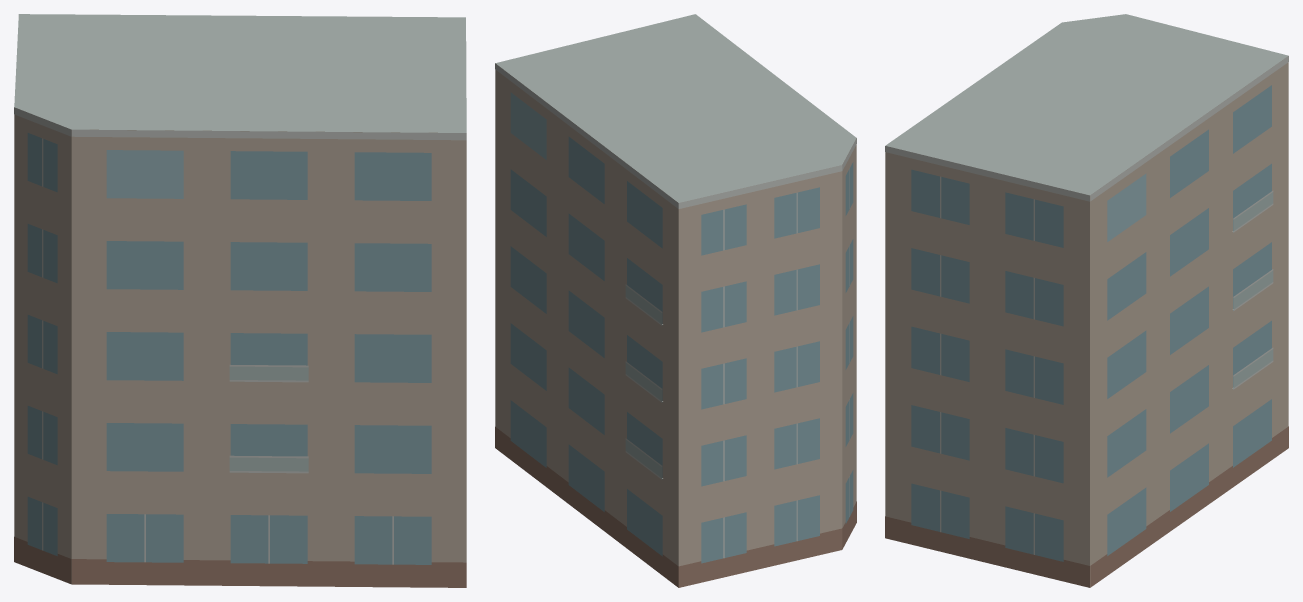
The model's file is survey-upis-32972555.glb.
3 renders of one model, left to right at view 1: azimuth 30°, elevation 25°; view 2: azimuth 150°, elevation 25°; view 3: azimuth 270°, elevation 25°, orthographic. The views are drawn at different scales.
Parts seen in each view (by area): view 1: survey-upis-32972555.tmp; view 2: survey-upis-32972555.tmp; view 3: survey-upis-32972555.tmp.
Part boxes in pixels (left/top/right/bottom): survey-upis-32972555.tmp: left=14, top=14, right=466, bottom=587; survey-upis-32972555.tmp: left=495, top=14, right=856, bottom=587; survey-upis-32972555.tmp: left=885, top=14, right=1288, bottom=587.
Size of the model in its own units: 15.18 by 15.3 by 14.27.
